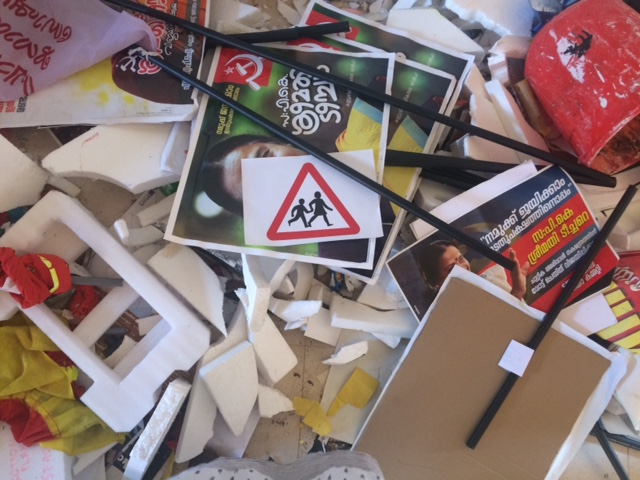sign: (263, 161, 363, 241)
